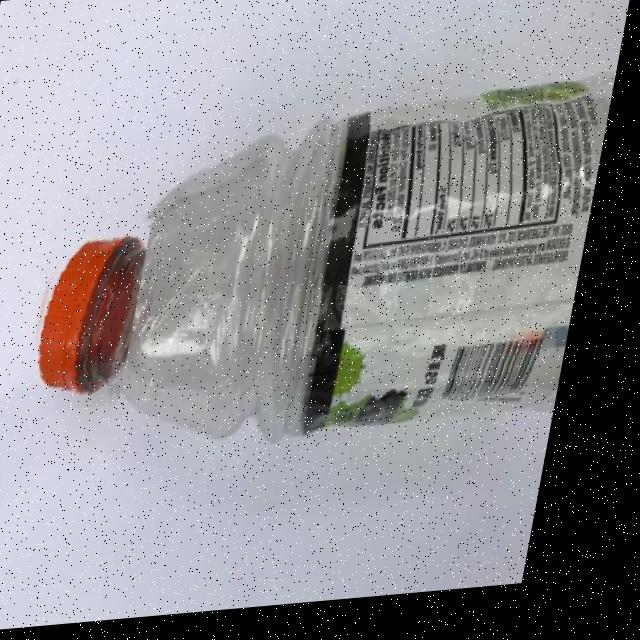plasticbottlecap: (28, 215, 161, 415)
